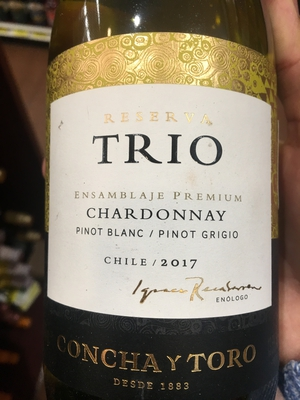trio chardonnay: (39, 2, 275, 400)
